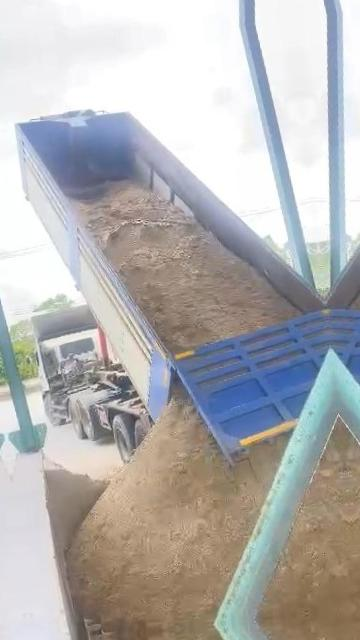sand: (68, 392, 285, 635), (75, 182, 297, 352), (262, 456, 360, 617), (47, 459, 106, 553)
